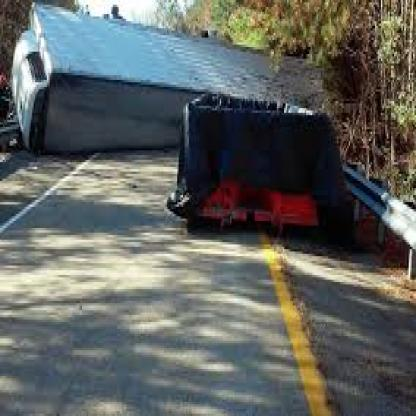accident: (6, 5, 340, 124)
